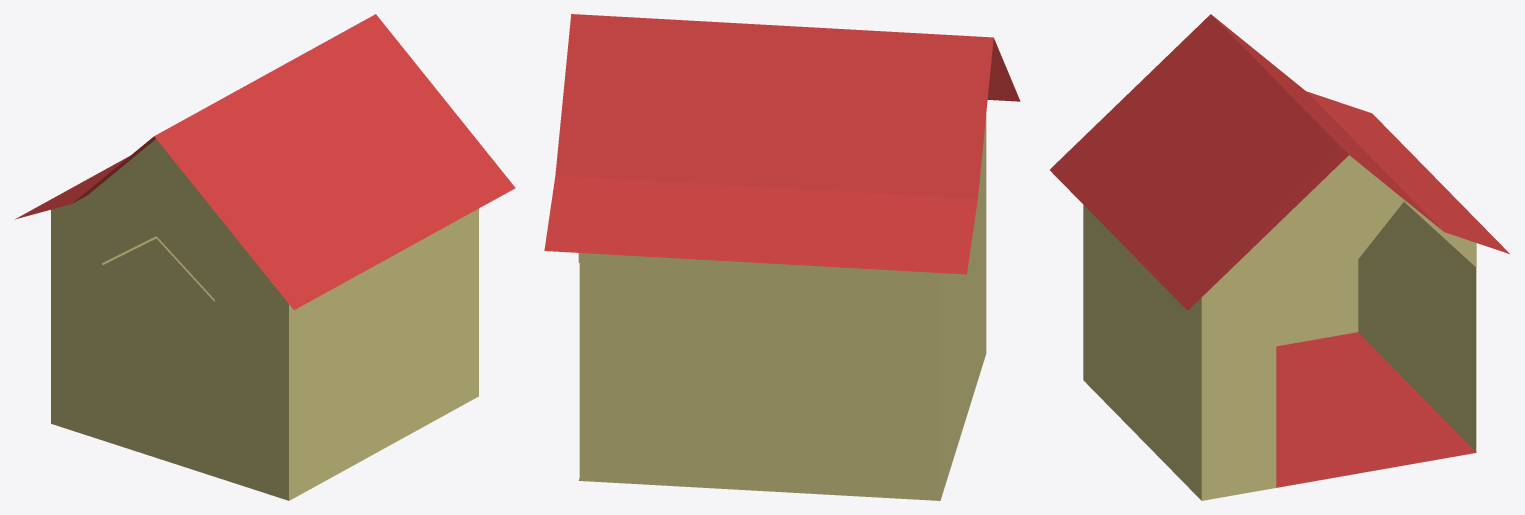
The picture shows the model from 3 angles, left to right: view 1: azimuth 30°, elevation 25°; view 2: azimuth 150°, elevation 25°; view 3: azimuth 270°, elevation 25°; orthographic projection. The views are drawn at different scales.
Size of the model in its own units: 17.99 by 17.75 by 14.1.
